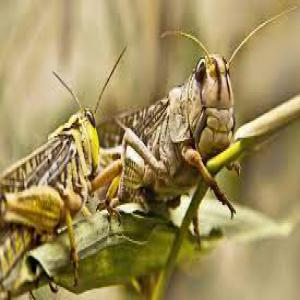locust: (1, 37, 122, 299), (127, 17, 272, 188)
